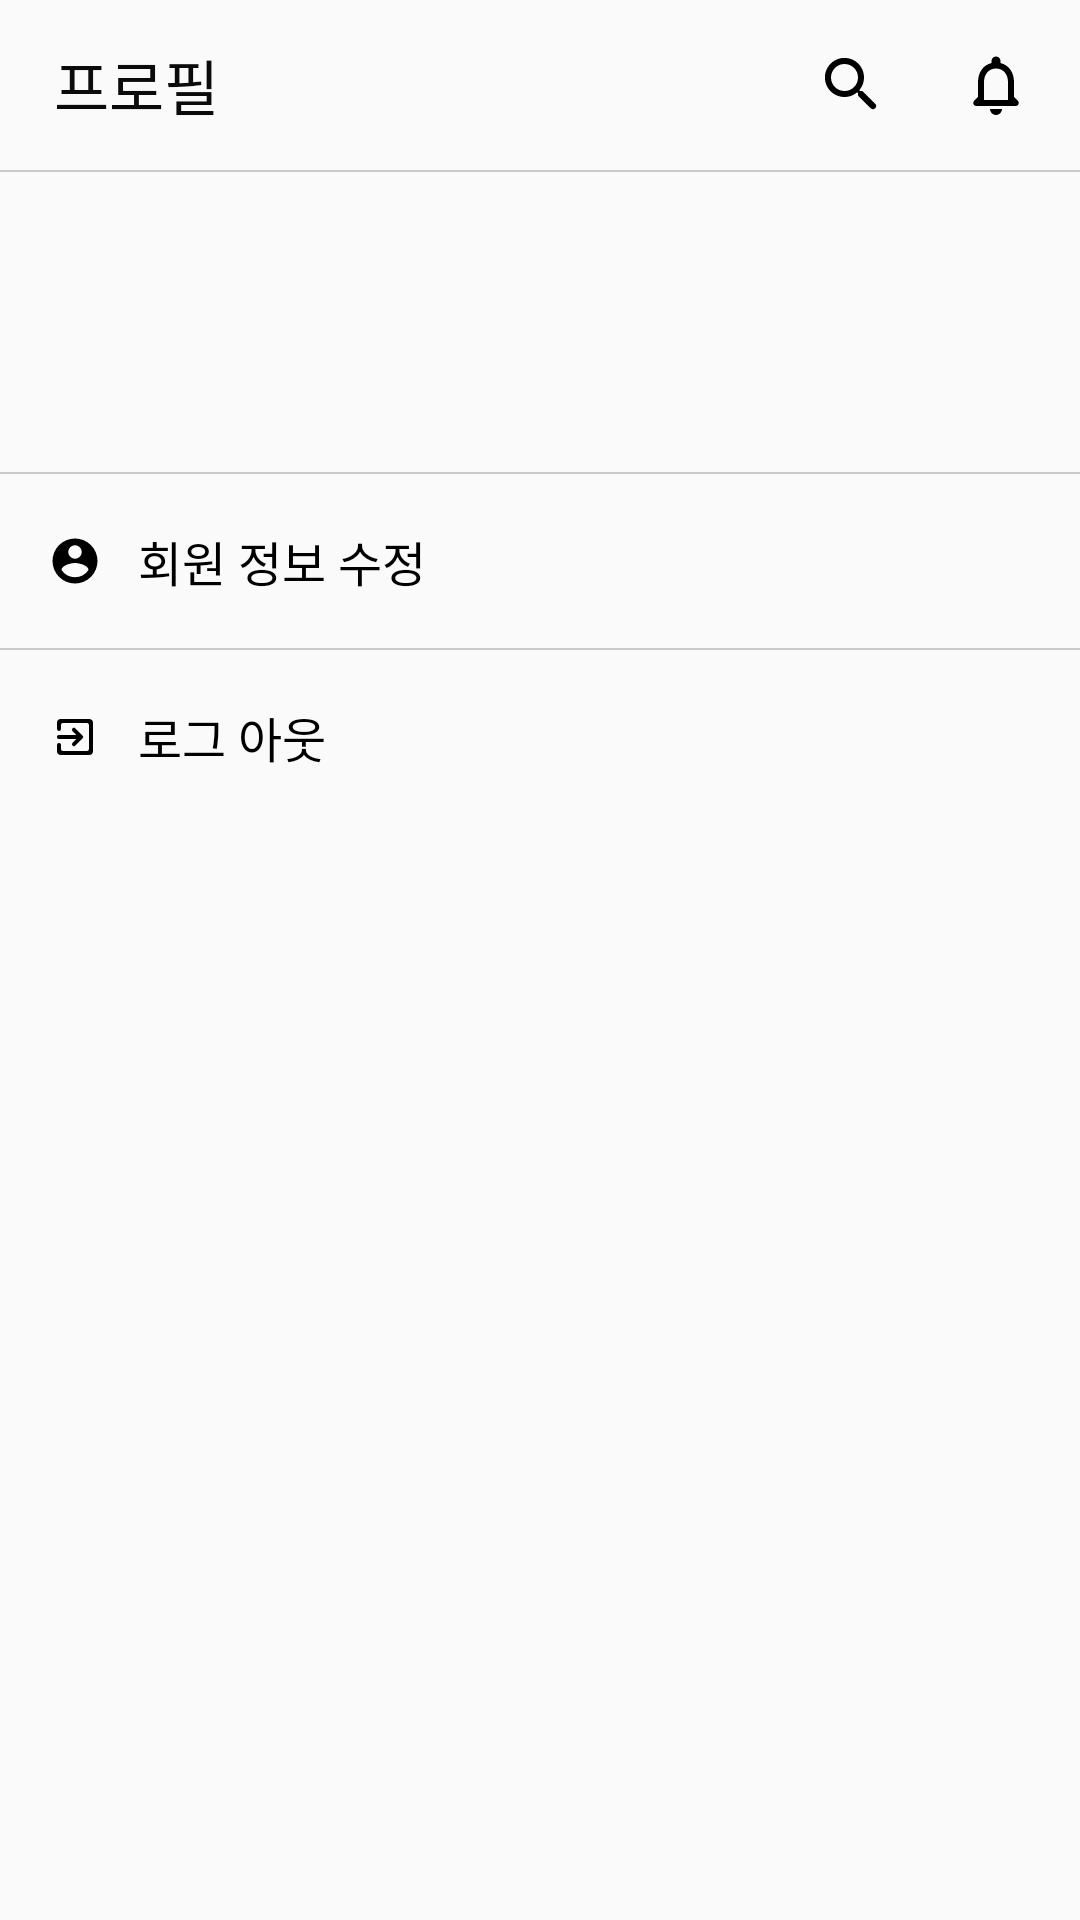

Icons on this 1080w x 1920h Android screen, each with its box as (x1, y1, x2, y2):
notifications none: (973, 56, 1019, 115)
search: (825, 58, 877, 110)
